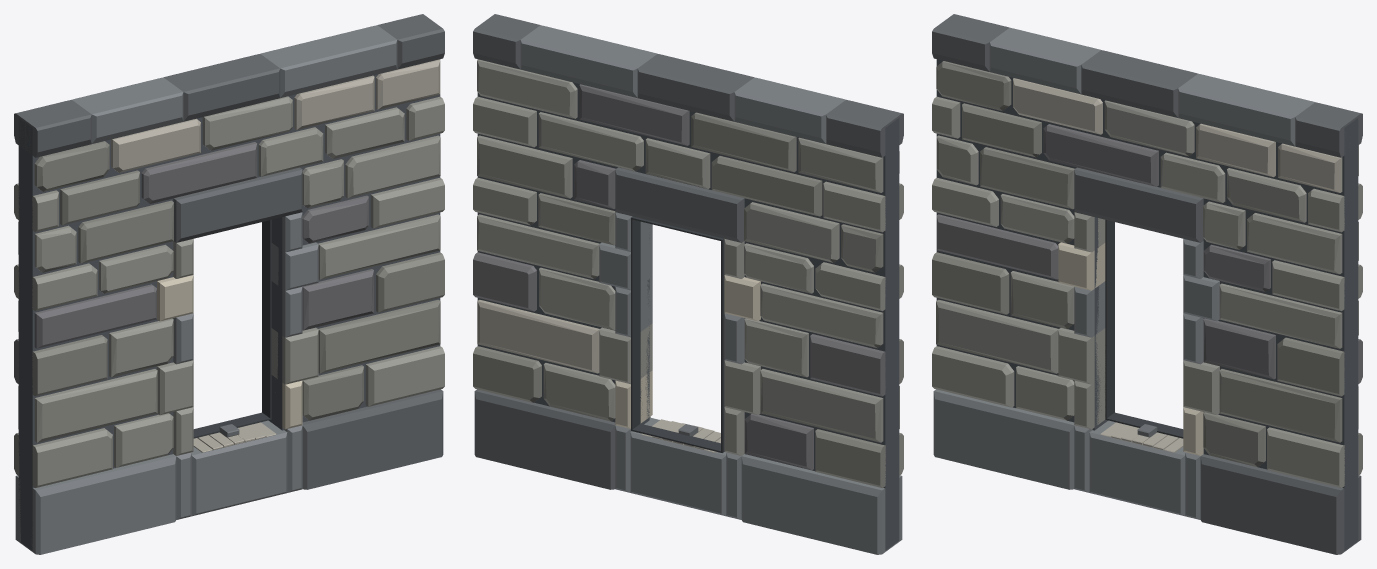
Rendered from SM_LPD_Struct_WallSecretPivotOpen_01.fbx.
3 renders of one model, left to right at view 1: azimuth 30°, elevation 25°; view 2: azimuth 150°, elevation 25°; view 3: azimuth 330°, elevation 25°, orthographic.
Visible parts, largest first — view 1: SM_LPD_Struct_WallSecretPivotOpen_01; view 2: SM_LPD_Struct_WallSecretPivotOpen_01; view 3: SM_LPD_Struct_WallSecretPivotOpen_01.
Part boxes in pixels (<box>): SM_LPD_Struct_WallSecretPivotOpen_01: <box>14,14,444,554</box>; SM_LPD_Struct_WallSecretPivotOpen_01: <box>473,14,903,554</box>; SM_LPD_Struct_WallSecretPivotOpen_01: <box>932,14,1362,554</box>.
Size of the model in its own units: 4 by 4 by 0.4.
